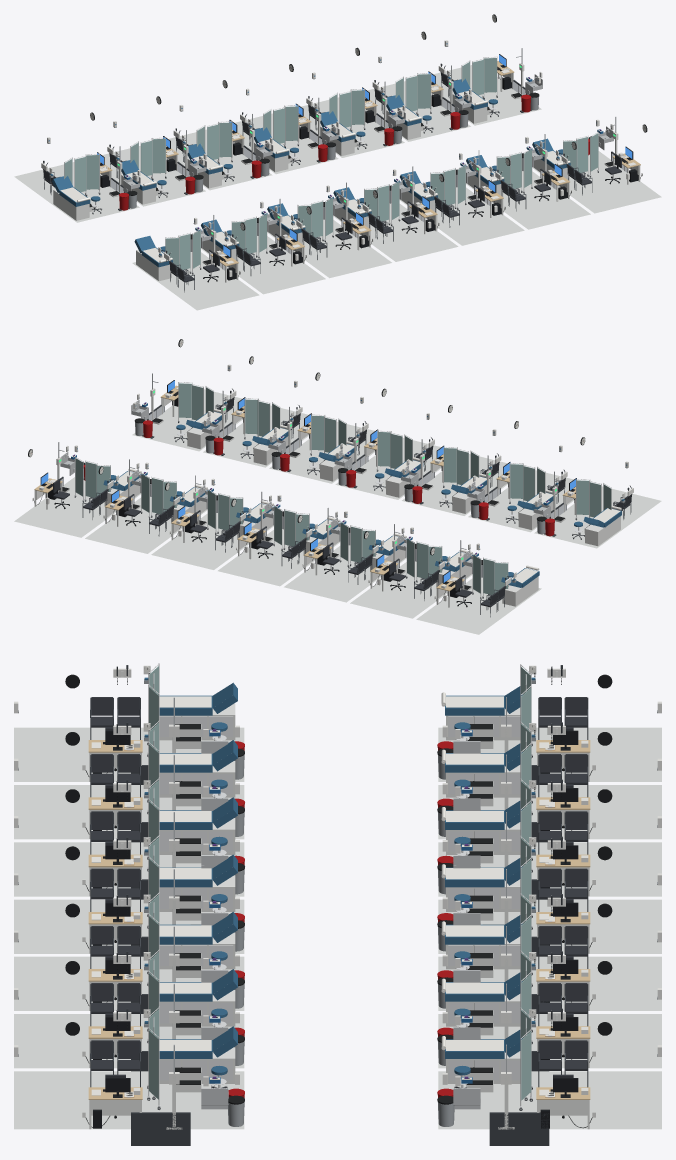
Rendered from 22_n2_consultorios_osce.glb.
3 renders of one model, top to bottom at view 1: azimuth 30°, elevation 25°; view 2: azimuth 150°, elevation 25°; view 3: azimuth 270°, elevation 25°, orthographic. The views are drawn at different scales.
Parts seen in each view (by area): view 1: biombo (×14), mesa_exploracion (×14), escritorio_medico (×7), piso · Consultorio OSCE 7, piso · Consultorio OSCE 1, piso · Consultorio OSCE 4, piso · Consultorio OSCE 3, piso · Consultorio OSCE 6, piso · Consultorio OSCE 2, piso · Consultorio OSCE 5, piso · Consultorio OSCE 8, piso · Consultorio OSCE 14 (+5 smaller); view 2: biombo (×14), mesa_exploracion (×14), escritorio_medico (×7), piso · Consultorio OSCE 14, piso · Consultorio OSCE 8, piso · Consultorio OSCE 10, piso · Consultorio OSCE 9, piso · Consultorio OSCE 11, piso · Consultorio OSCE 12, piso · Consultorio OSCE 13, piso · Consultorio OSCE 1, piso · Consultorio OSCE 7 (+5 smaller); view 3: mesa_exploracion (×14), silla_visita (×28), escritorio_medico (×14), biombo (×14), piso · Consultorio OSCE 7, piso · Consultorio OSCE 14, piso · Consultorio OSCE 3, piso · Consultorio OSCE 4, piso · Consultorio OSCE 2, piso · Consultorio OSCE 6, piso · Consultorio OSCE 5, piso · Consultorio OSCE 1 (+7 smaller).
Boxes of the visible parts, x1=… form: biombo (×14): x1=64, y1=56, x2=598, y2=274; mesa_exploracion (×14): x1=52, y1=78, x2=570, y2=281; escritorio_medico (×7): x1=210, y1=146, x2=640, y2=282; piso · Consultorio OSCE 7: x1=532, y1=151, x2=661, y2=213; piso · Consultorio OSCE 1: x1=132, y1=252, x2=259, y2=310; piso · Consultorio OSCE 4: x1=333, y1=203, x2=458, y2=261; piso · Consultorio OSCE 3: x1=267, y1=219, x2=391, y2=278; piso · Consultorio OSCE 6: x1=466, y1=171, x2=590, y2=229; piso · Consultorio OSCE 2: x1=201, y1=236, x2=325, y2=294; piso · Consultorio OSCE 5: x1=399, y1=187, x2=524, y2=245; piso · Consultorio OSCE 8: x1=14, y1=162, x2=139, y2=222; piso · Consultorio OSCE 14: x1=431, y1=65, x2=541, y2=125; biombo (×14): x1=74, y1=382, x2=611, y2=599; mesa_exploracion (×14): x1=103, y1=408, x2=621, y2=606; escritorio_medico (×7): x1=34, y1=472, x2=464, y2=607; piso · Consultorio OSCE 14: x1=14, y1=477, x2=141, y2=537; piso · Consultorio OSCE 8: x1=416, y1=577, x2=541, y2=634; piso · Consultorio OSCE 10: x1=284, y1=545, x2=406, y2=602; piso · Consultorio OSCE 9: x1=350, y1=561, x2=472, y2=618; piso · Consultorio OSCE 11: x1=218, y1=529, x2=340, y2=586; piso · Consultorio OSCE 12: x1=151, y1=513, x2=273, y2=569; piso · Consultorio OSCE 13: x1=85, y1=496, x2=207, y2=553; piso · Consultorio OSCE 1: x1=534, y1=486, x2=661, y2=548; piso · Consultorio OSCE 7: x1=132, y1=389, x2=242, y2=451; mesa_exploracion (×14): x1=159, y1=682, x2=522, y2=1092; silla_visita (×28): x1=90, y1=697, x2=588, y2=1087; escritorio_medico (×14): x1=88, y1=730, x2=590, y2=1129; biombo (×14): x1=147, y1=663, x2=532, y2=1110; piso · Consultorio OSCE 7: x1=14, y1=1071, x2=244, y2=1129; piso · Consultorio OSCE 14: x1=438, y1=1071, x2=661, y2=1129; piso · Consultorio OSCE 3: x1=14, y1=842, x2=244, y2=896; piso · Consultorio OSCE 4: x1=14, y1=899, x2=244, y2=953; piso · Consultorio OSCE 2: x1=14, y1=785, x2=244, y2=839; piso · Consultorio OSCE 6: x1=14, y1=1014, x2=244, y2=1068; piso · Consultorio OSCE 5: x1=14, y1=956, x2=244, y2=1010; piso · Consultorio OSCE 1: x1=14, y1=727, x2=244, y2=781.
Size of the model in its own units: 21.27 by 3.01 by 14.35.
30 materials, 1 textured.
